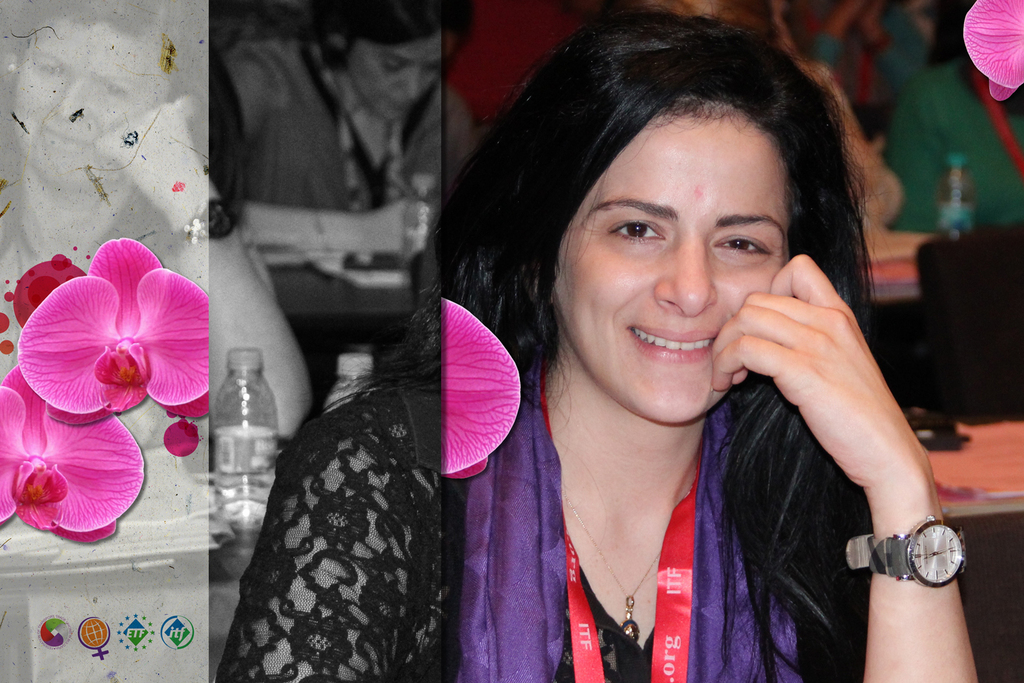watch: (846, 510, 965, 589)
